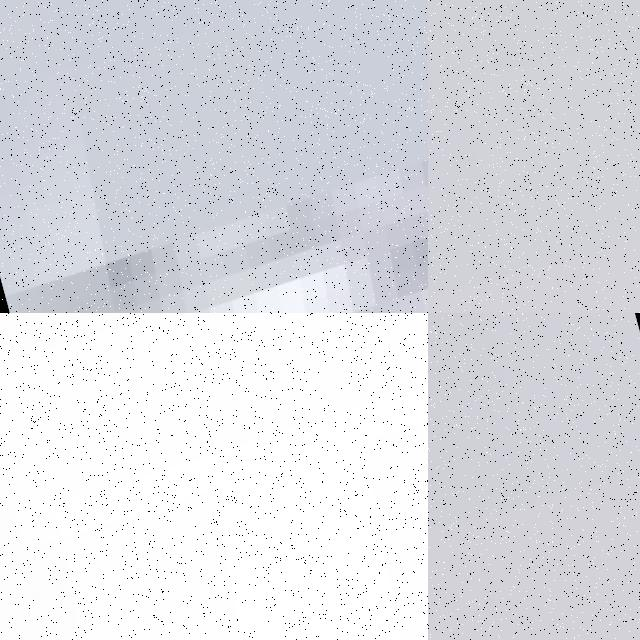0: (0, 0, 428, 313)
drone: (0, 313, 428, 640)
